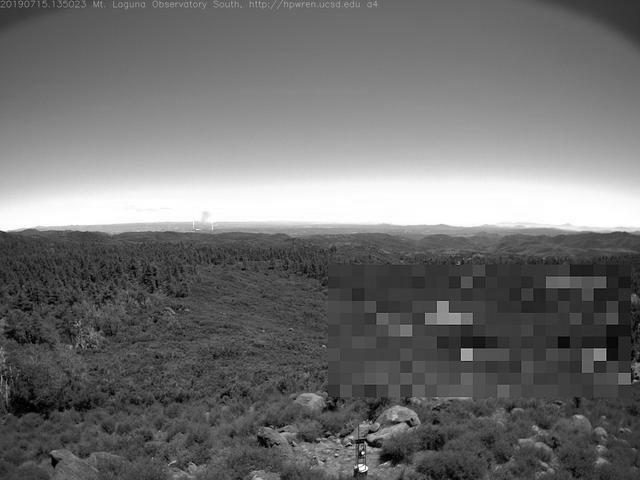smoke: (195, 209, 215, 232)
